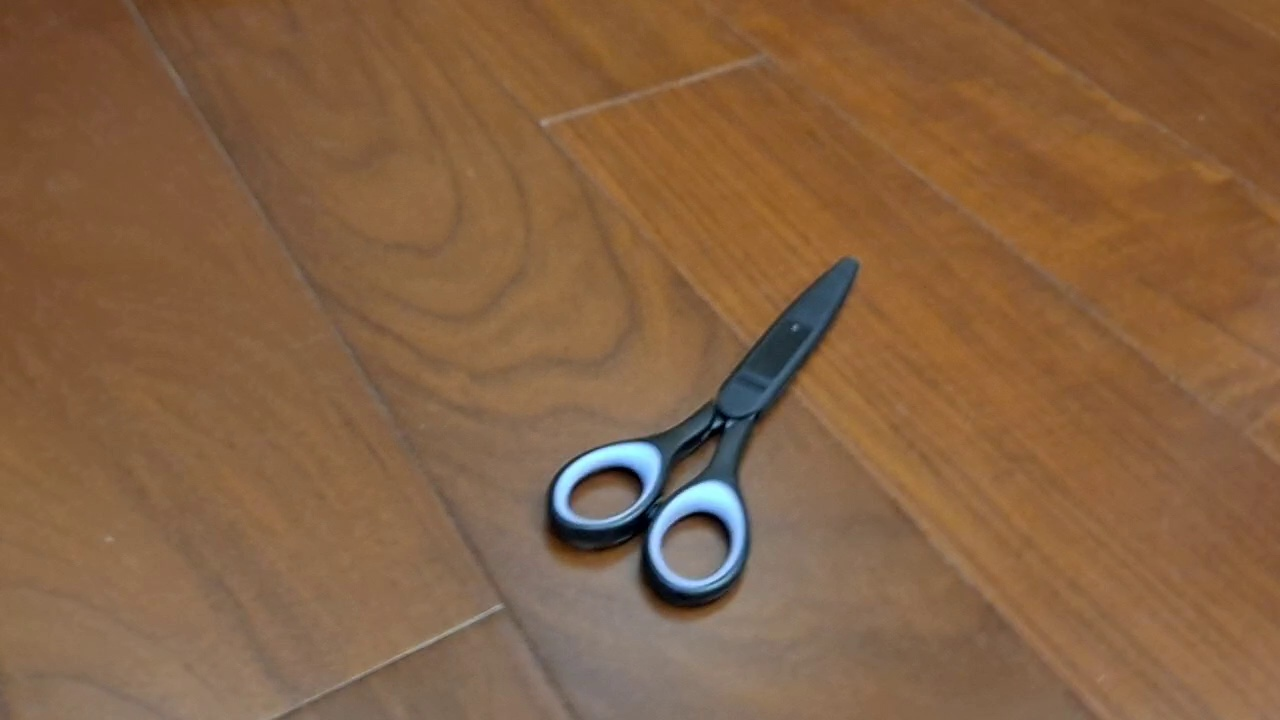scissors: (544, 253, 861, 610)
